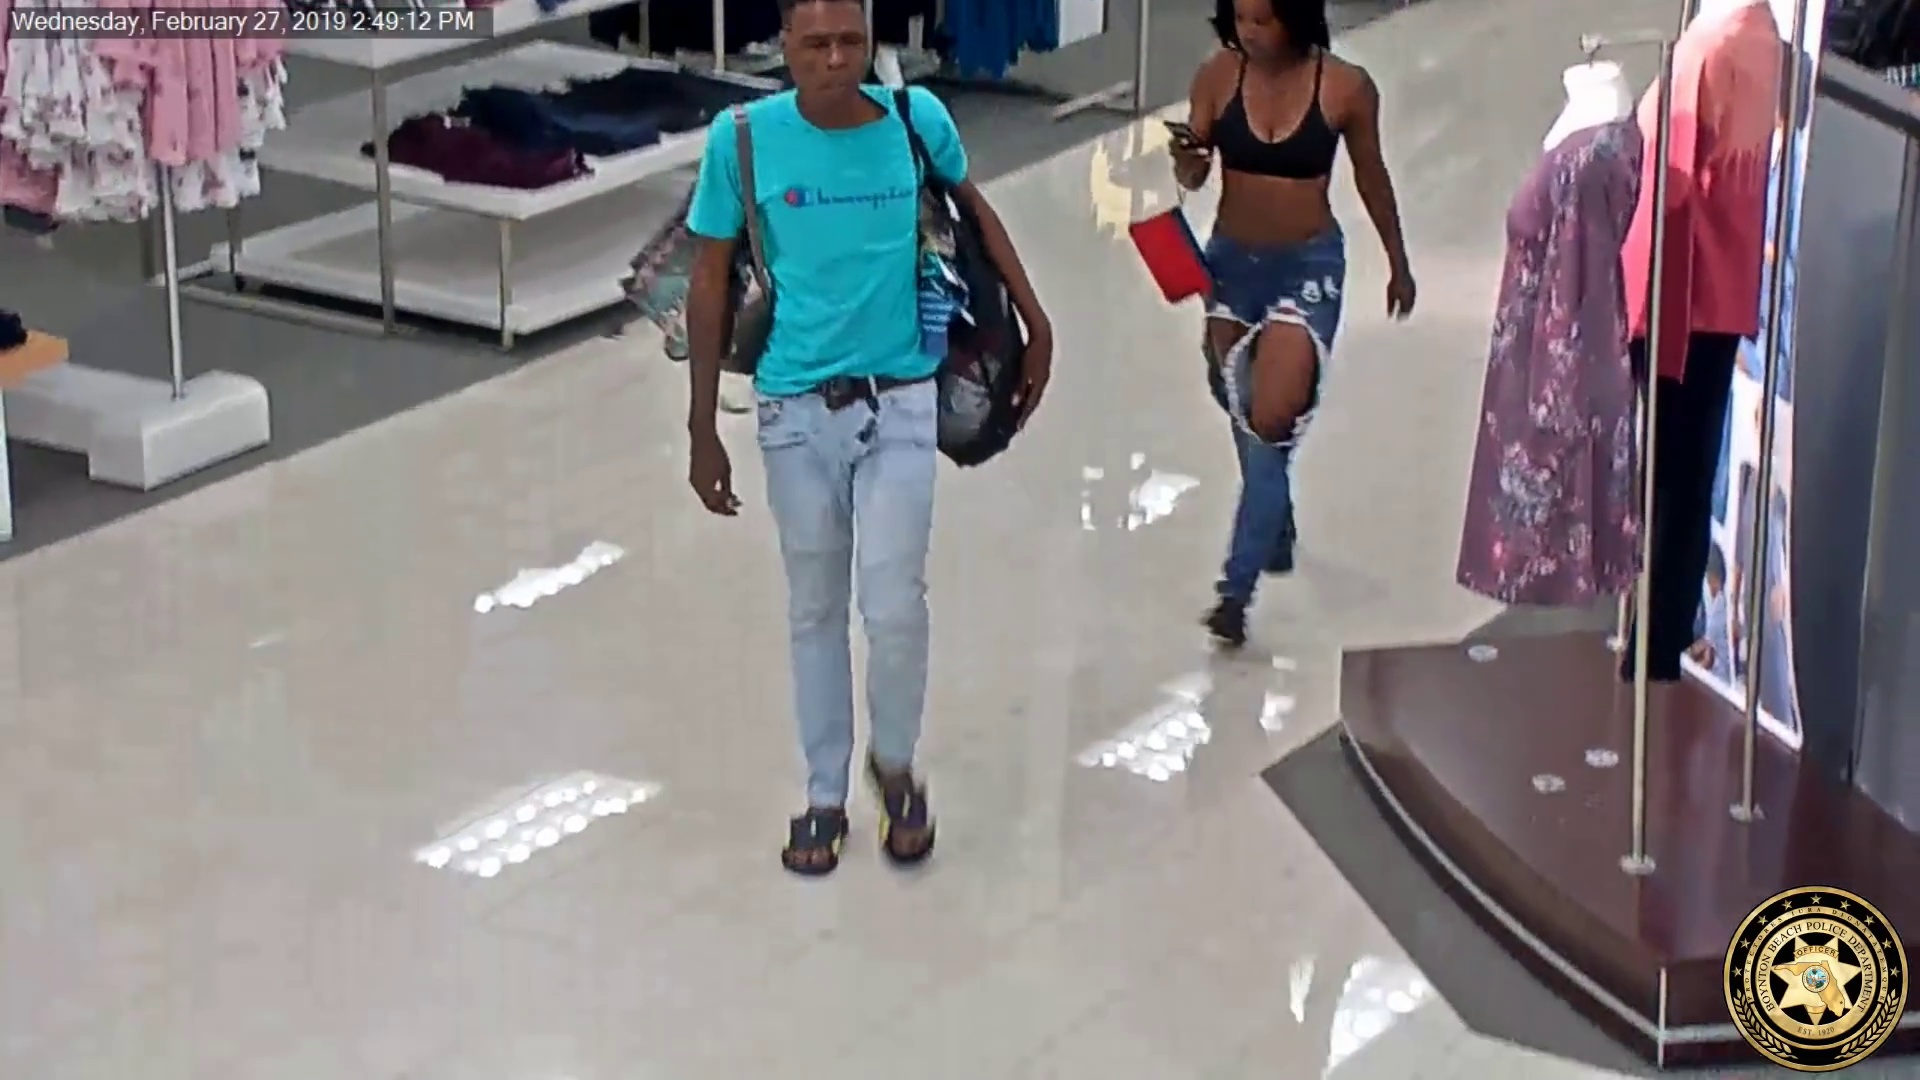face: (789, 0, 877, 94), (1226, 0, 1285, 56)
